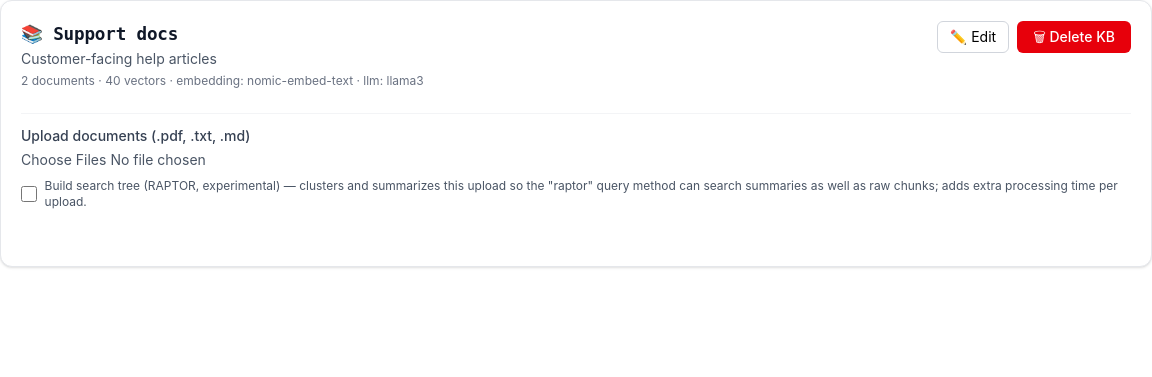
Test: KnowledgeBaseCard › shows a friendly error when delete fails
The width and height of the screenshot is (1152, 377).
Click the button "🗑 Delete KB": click(1074, 37) [1017, 21, 1131, 53]
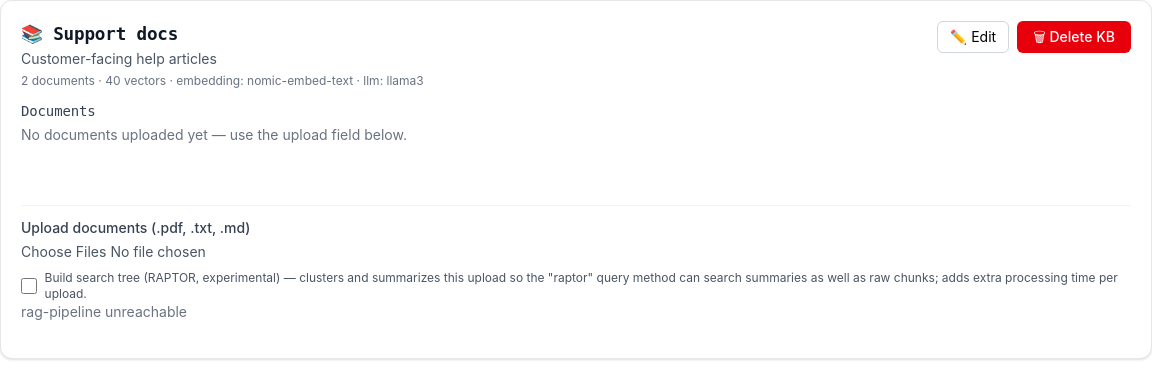
Now the text "rag-pipeline unreachable" is shown, box [21, 303, 187, 320]
